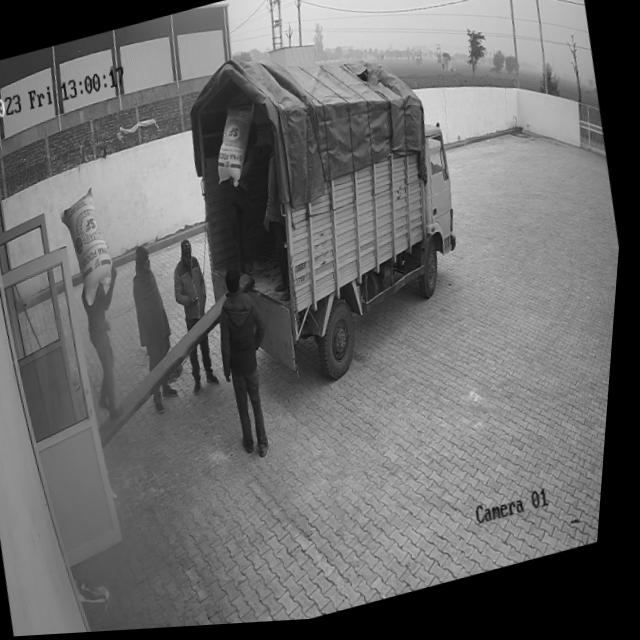sack: (54, 185, 127, 312), (206, 98, 272, 195)
